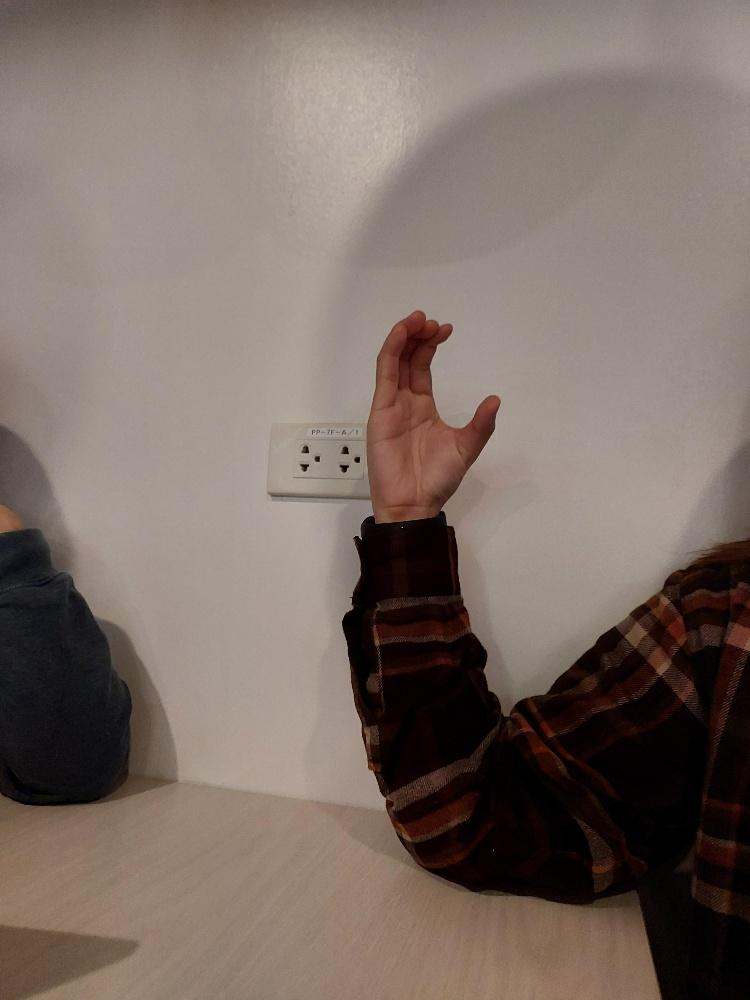c: (360, 300, 506, 525)
